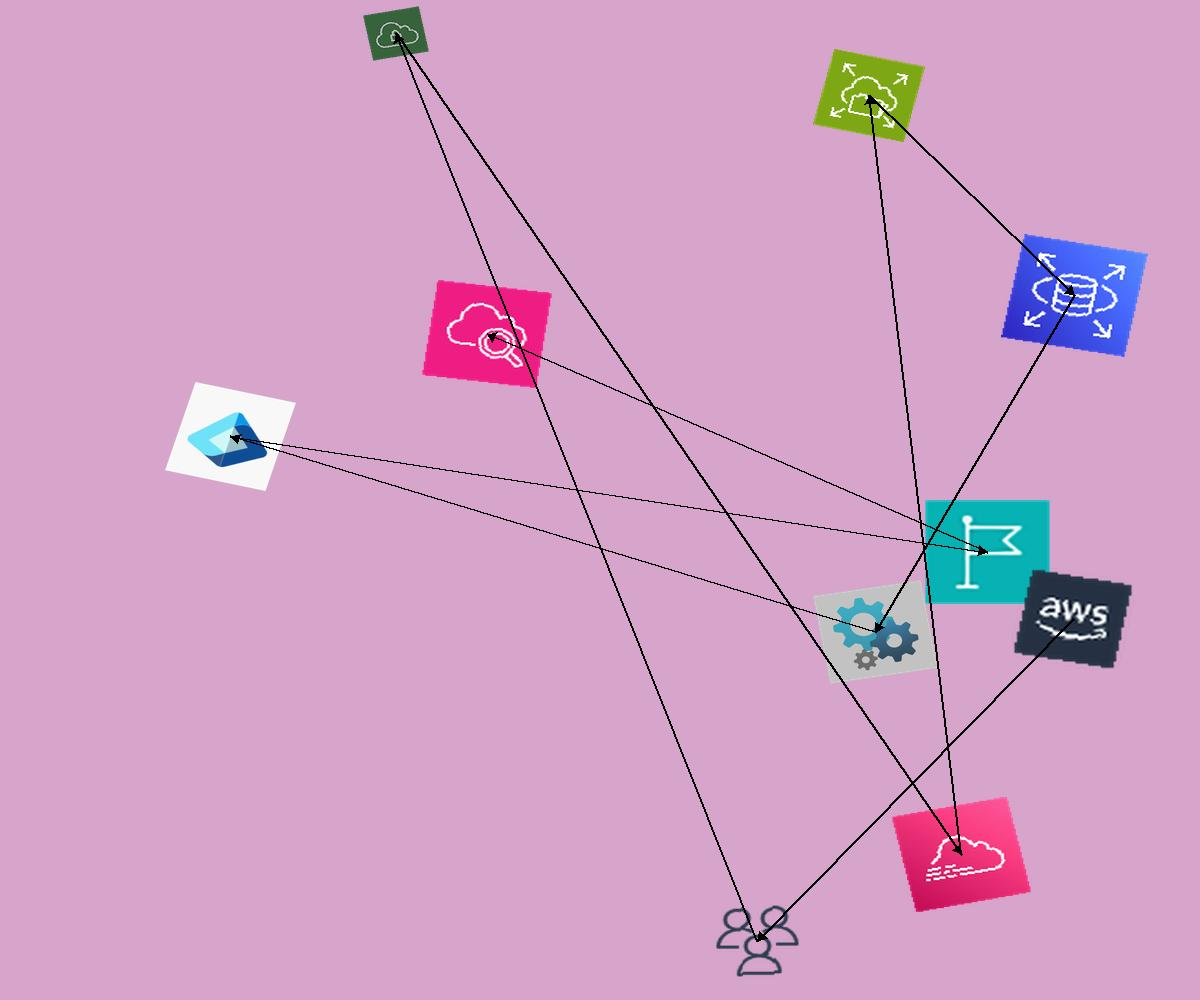AWS-Cloud-logo: (1012, 568, 1134, 670)
AWS-CloudTrail: (891, 796, 1032, 913)
AWS-CloudWatch: (421, 279, 553, 389)
AWS-EFS: (812, 48, 926, 143)
AWS-Private_vpc: (363, 6, 429, 61)
AWS-RDS: (1001, 234, 1148, 357)
AWS-Region: (924, 499, 1051, 605)
AWS-Res_Users: (709, 901, 806, 981)
Azure_api: (813, 580, 938, 684)
Azure_microsoft_entra: (165, 382, 296, 491)
